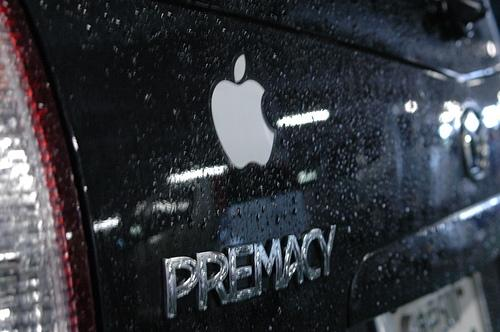apple: (211, 79, 274, 169)
